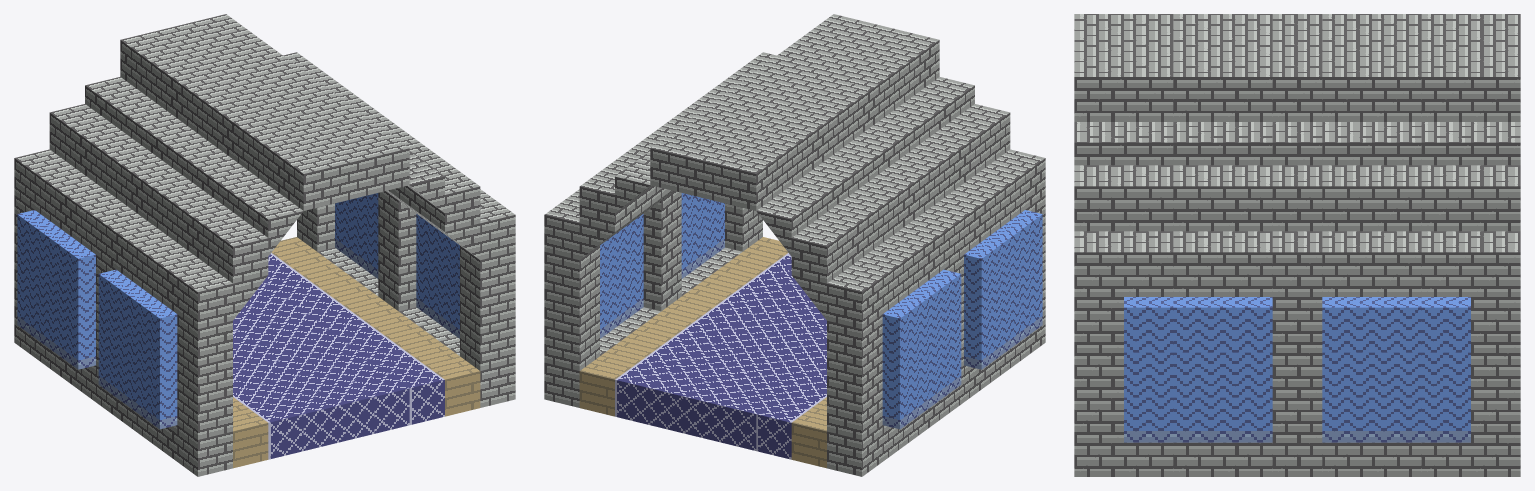
Rendered from corridor straight EO.fbx.
3 views of the same model, side by side, from view 1: azimuth 30°, elevation 25°; view 2: azimuth 150°, elevation 25°; view 3: azimuth 270°, elevation 25° (orthographic). The views are drawn at different scales.
Parts seen in each view (by area): view 1: corridor straight EO; view 2: corridor straight EO; view 3: corridor straight EO.
Boxes of the visible parts, x1,y1,x2,y2 form: corridor straight EO: (14,14,515,476); corridor straight EO: (544,14,1045,476); corridor straight EO: (1074,14,1520,476).
Bounding box in the file's own units: 10 × 7.5 × 9.
1 material, 1 textured.
